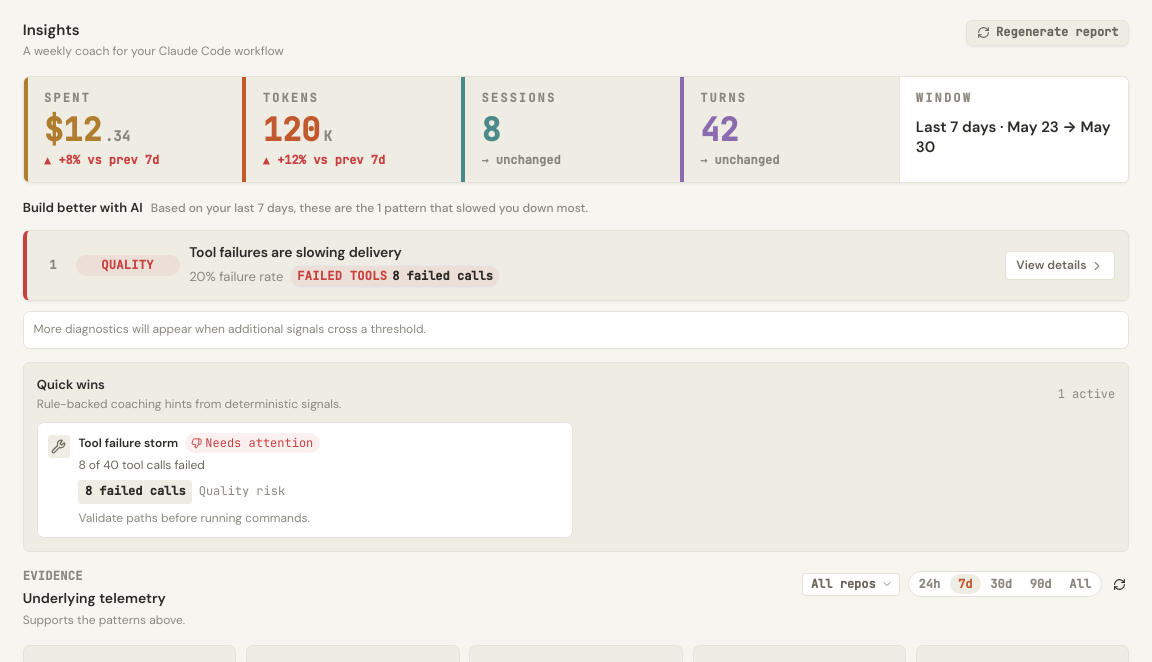
Test: InsightsPage › regenerate report button refreshes data and saves a new report snapshot
This screenshot has width=1152, height=662.
Click the button with test id "insights-regenerate-report-btn". click: (1048, 32)
box: left=966, top=20, right=1129, bottom=46
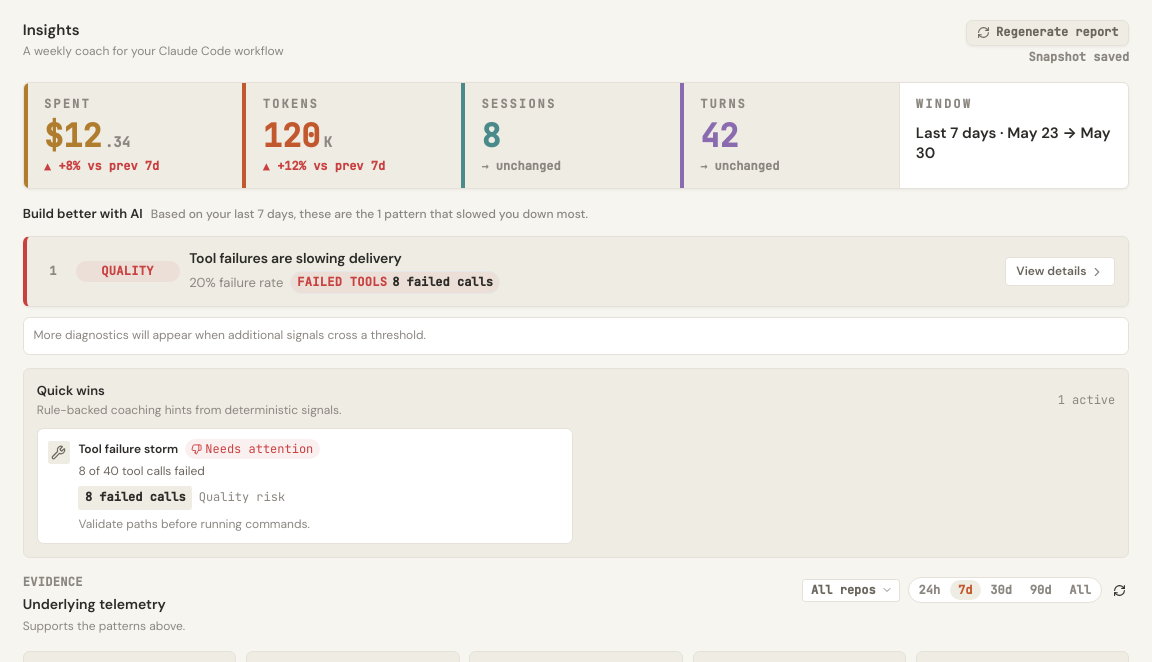
Now the text "Snapshot saved" is shown, box left=1028, top=49, right=1129, bottom=66
